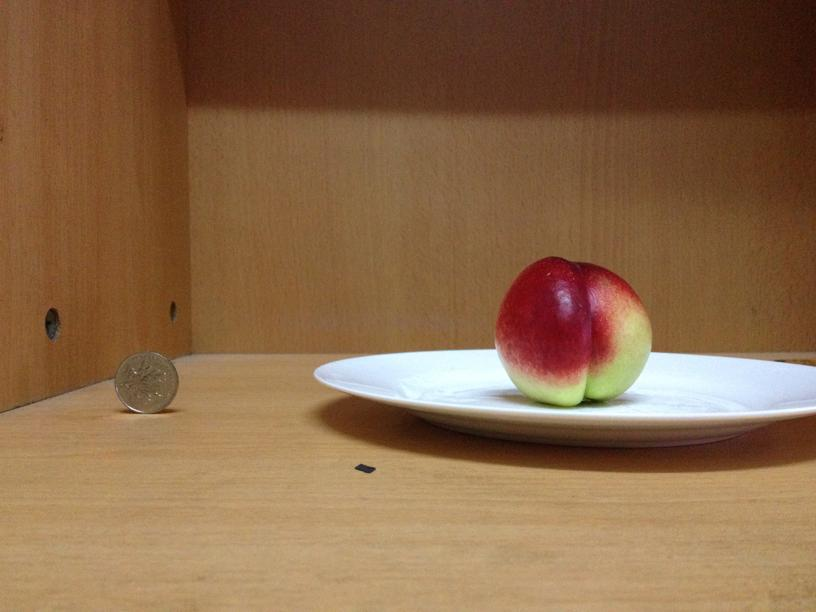coin: (109, 351, 179, 414)
peach: (490, 251, 653, 406)
